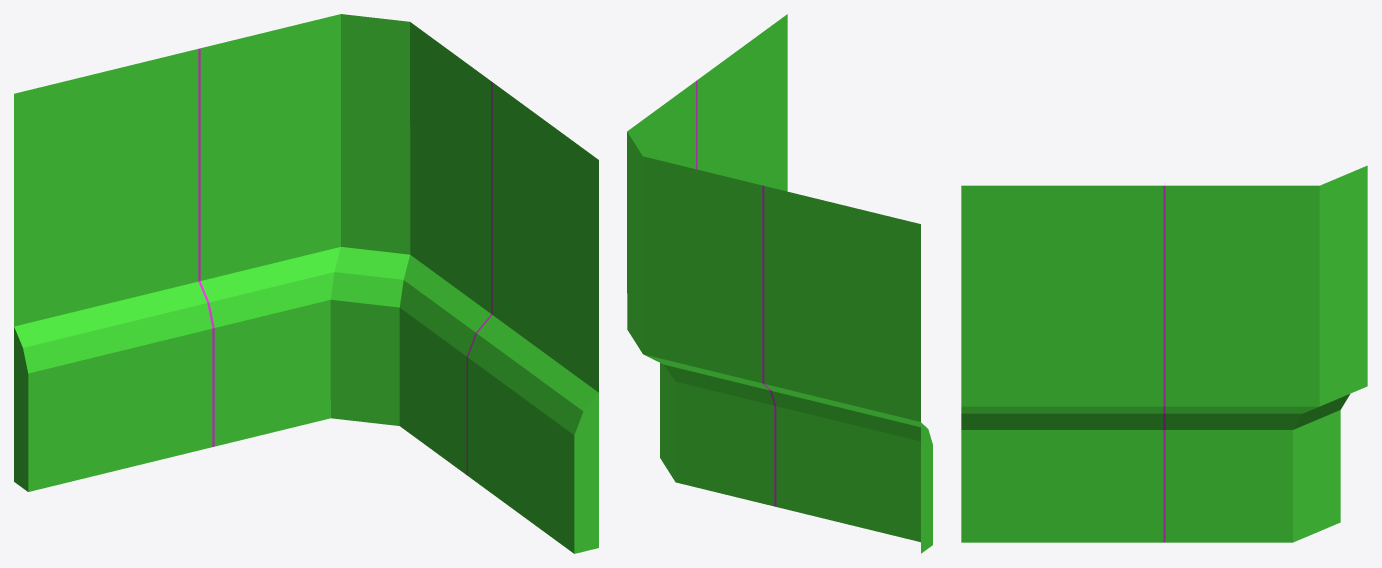
File: Wall_43_A_Corner_In_01.fbx
3 views of the same model, side by side, from view 1: azimuth 30°, elevation 25°; view 2: azimuth 150°, elevation 25°; view 3: azimuth 270°, elevation 25° (orthographic). The views are drawn at different scales.
Parts seen in each view (by area): view 1: Wall_43_A_Corner_In_01; view 2: Wall_43_A_Corner_In_01; view 3: Wall_43_A_Corner_In_01.
Boxes of the visible parts, x1=… form: Wall_43_A_Corner_In_01: x1=14, y1=14, x2=598, y2=553; Wall_43_A_Corner_In_01: x1=627, y1=14, x2=932, y2=553; Wall_43_A_Corner_In_01: x1=961, y1=165, x2=1367, y2=542.
Bounding box in the file's own units: 457 × 457 × 457.
